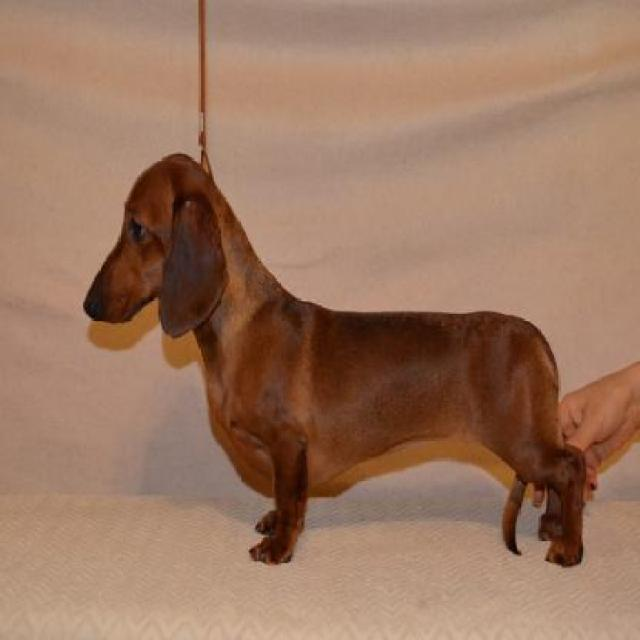Dog: (83, 154, 594, 574)
